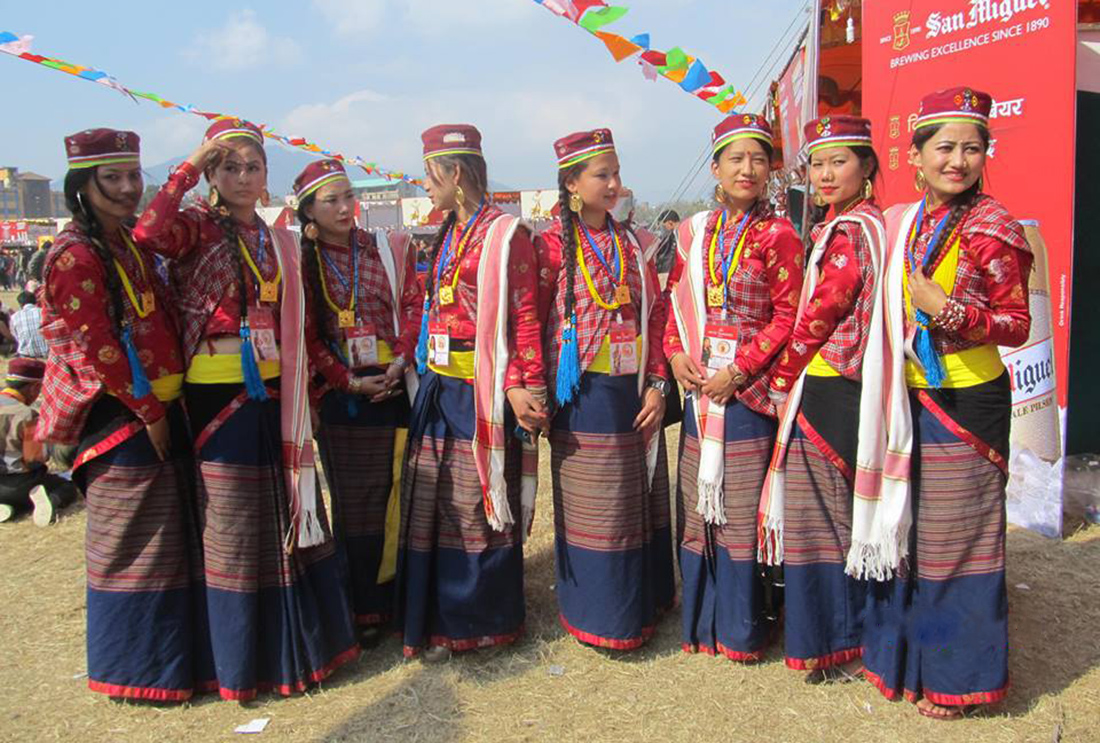human: (132, 95, 332, 702), (498, 111, 696, 681), (29, 119, 217, 710), (871, 84, 1033, 733), (652, 105, 808, 684), (397, 114, 551, 695), (764, 111, 909, 696), (283, 154, 425, 649)
